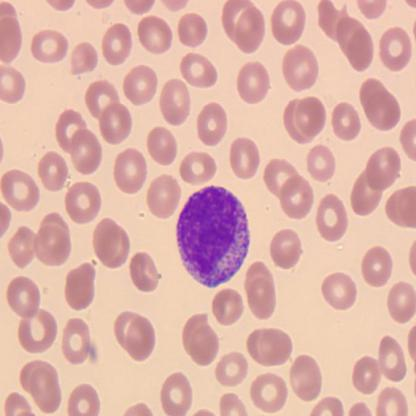Promyelocyte: (174, 186, 250, 292)
